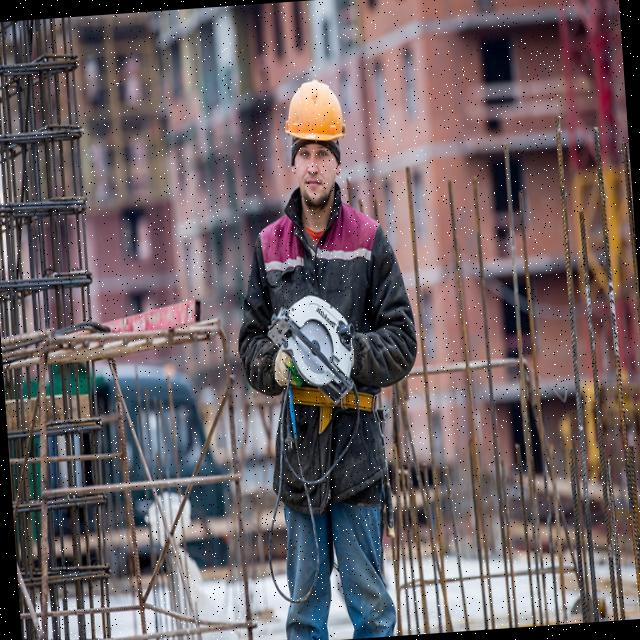Helmet: (281, 78, 347, 147)
NoJacket: (262, 207, 392, 477)
